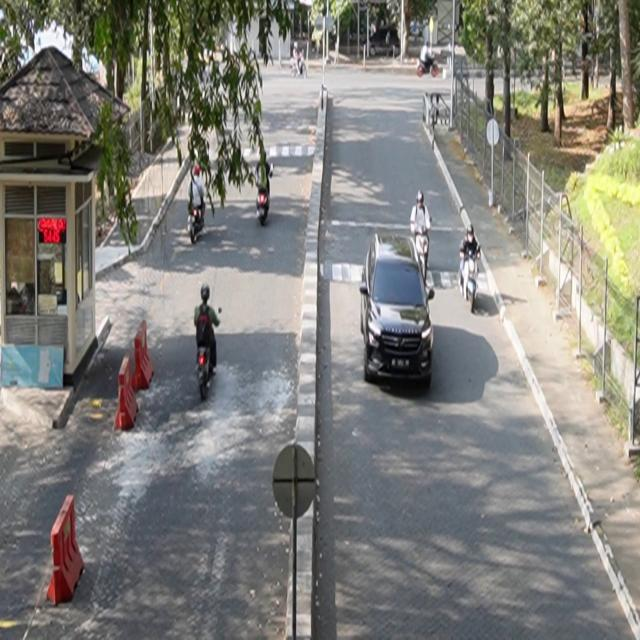car: (360, 233, 436, 387)
